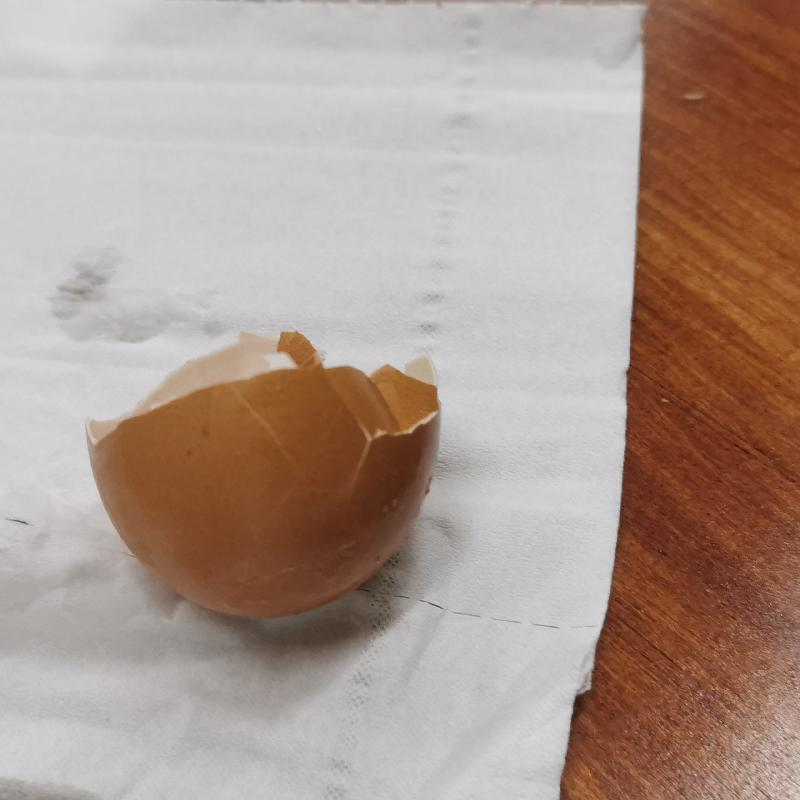eggshell: (82, 322, 449, 631)
